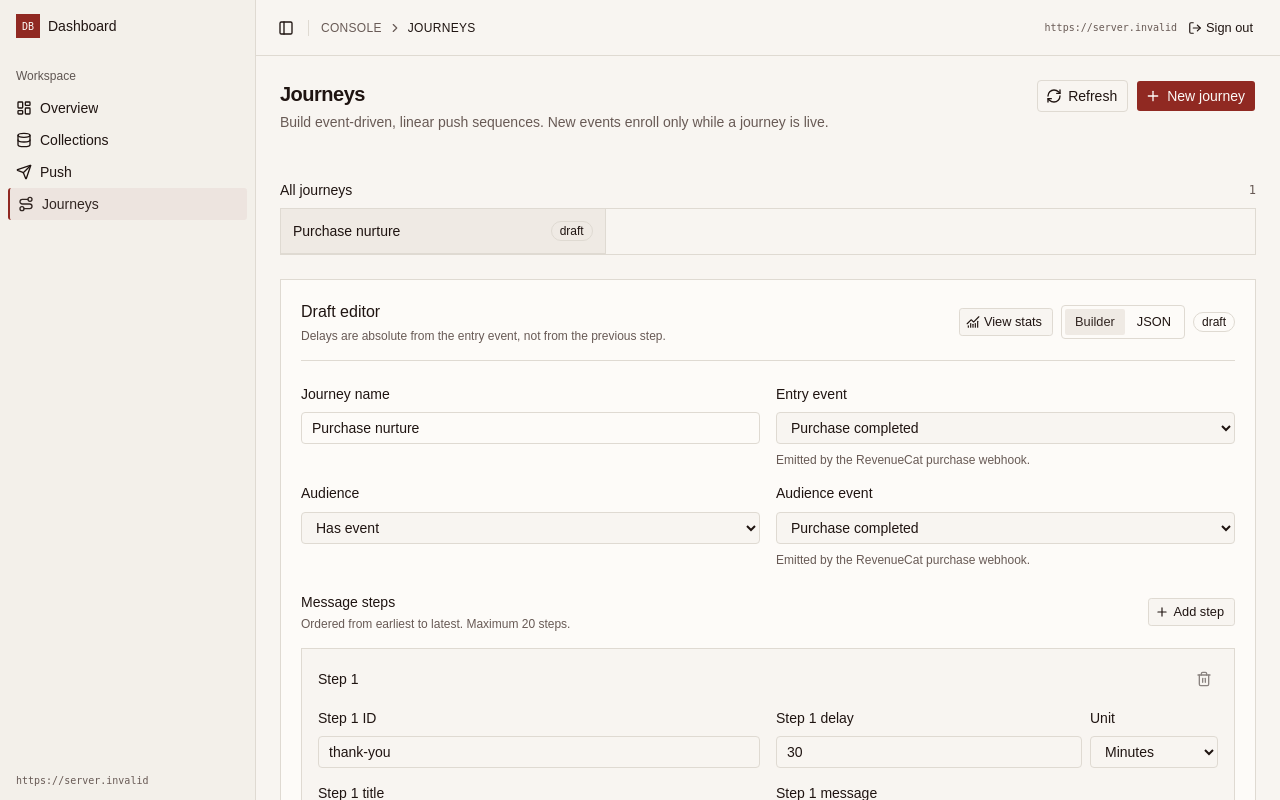
journeys page › edits, publishes, pauses and resumes using explicit state actions
This screenshot has width=1280, height=800.
Step 1. Replace the text in the field labelled "Journey name" with "Purchase follow-up" → (530,428), box [301, 412, 760, 444]
(page scrolled)
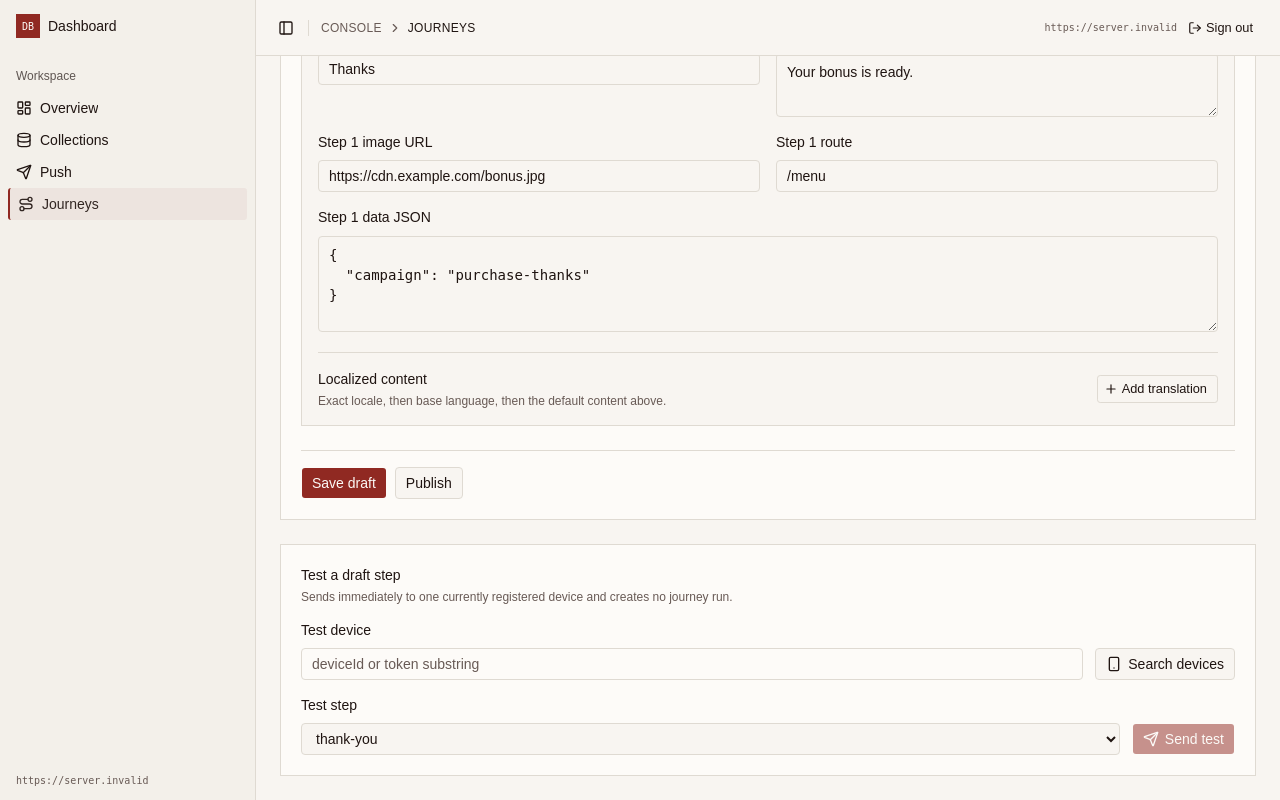
Step 2. Click the button "Publish" → (429,482), box [395, 466, 463, 498]
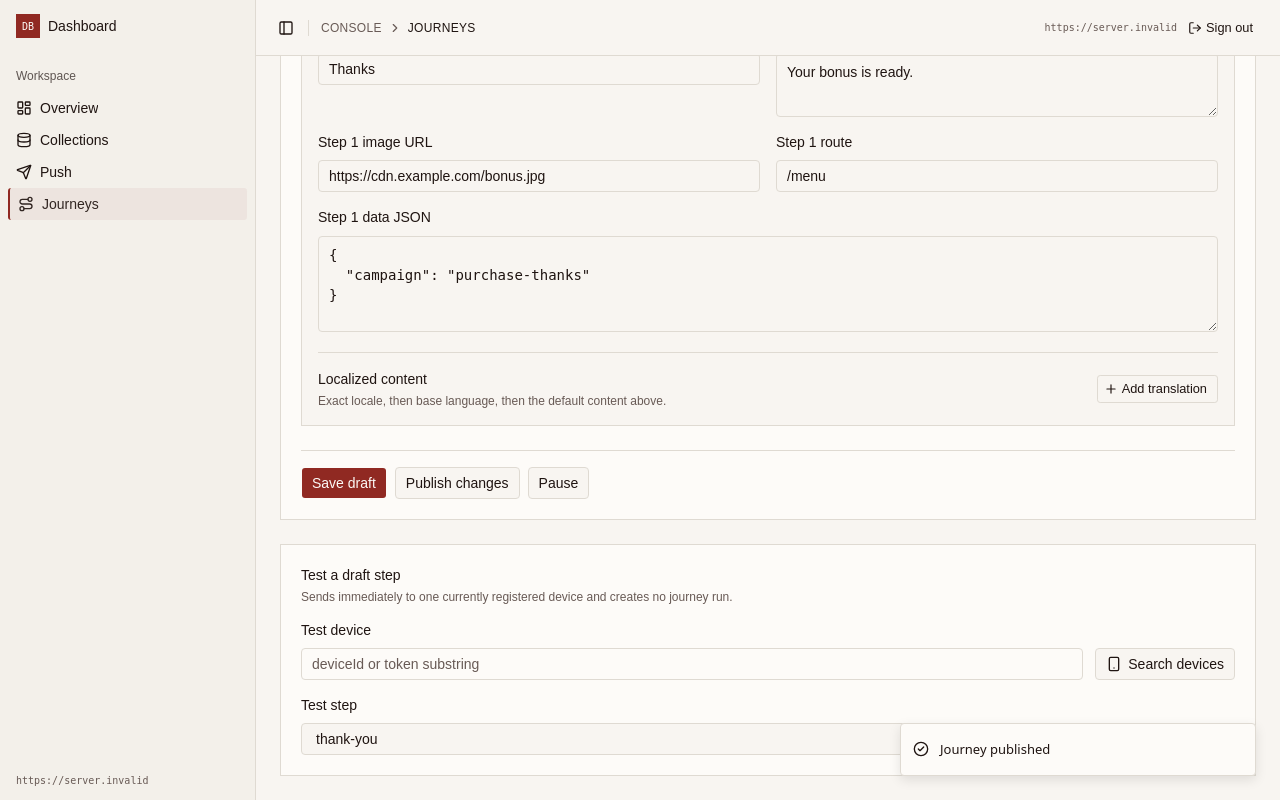
Step 3. Click the button "Pause" → (558,482), box [528, 466, 589, 498]
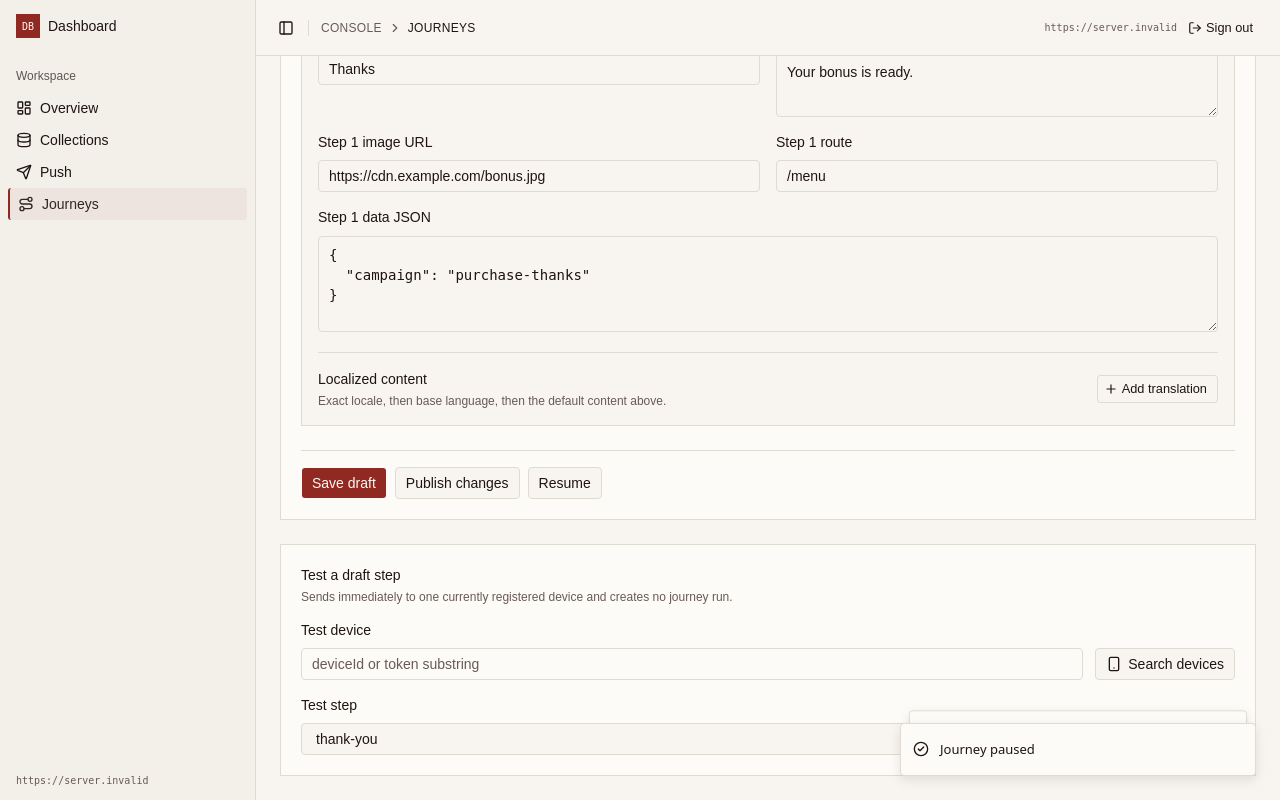
Step 4. Click the button "Resume" → (565,482), box [528, 466, 602, 498]
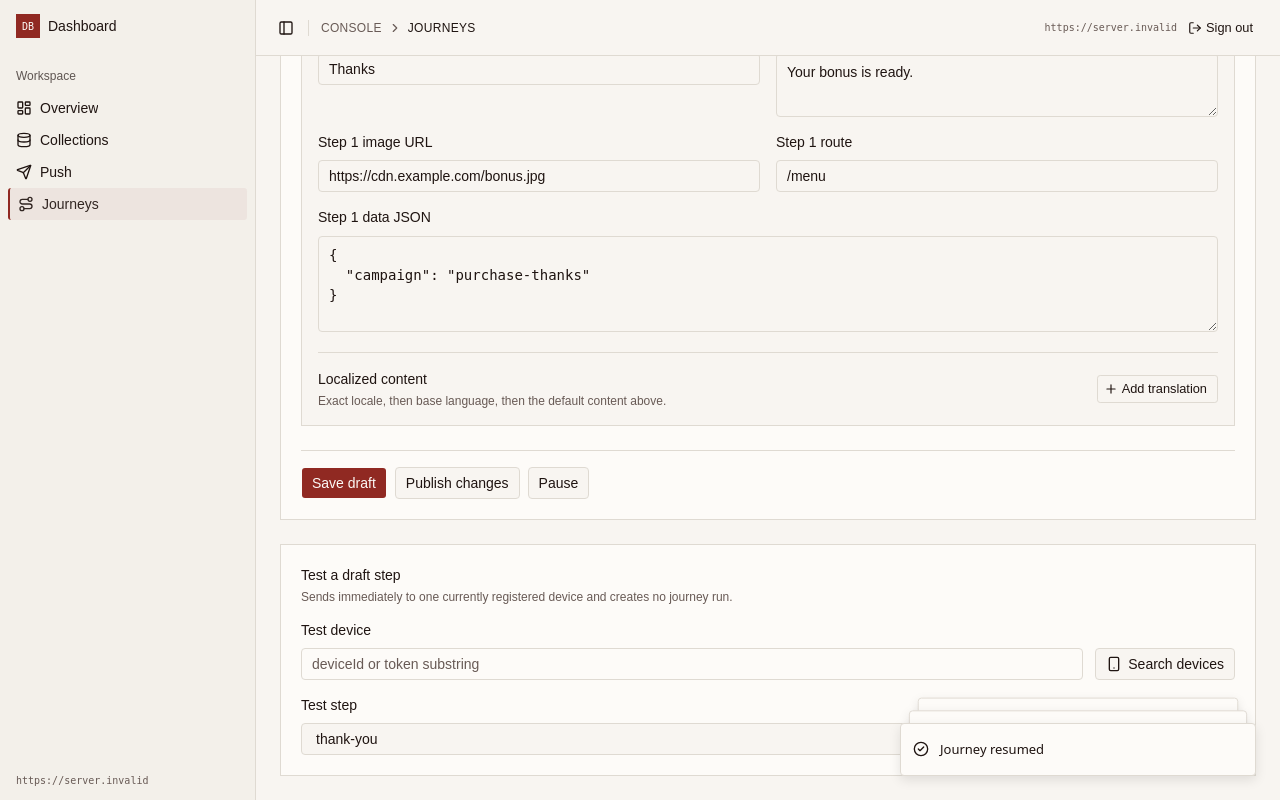
Expected: the text "Journey resumed" is shown, [940, 740, 1044, 759]
